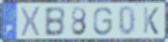0: (117, 5, 137, 37)
8: (70, 6, 87, 37)
B: (43, 6, 66, 38)
G: (92, 6, 114, 37)
K: (142, 6, 160, 36)
X: (20, 6, 41, 38)
